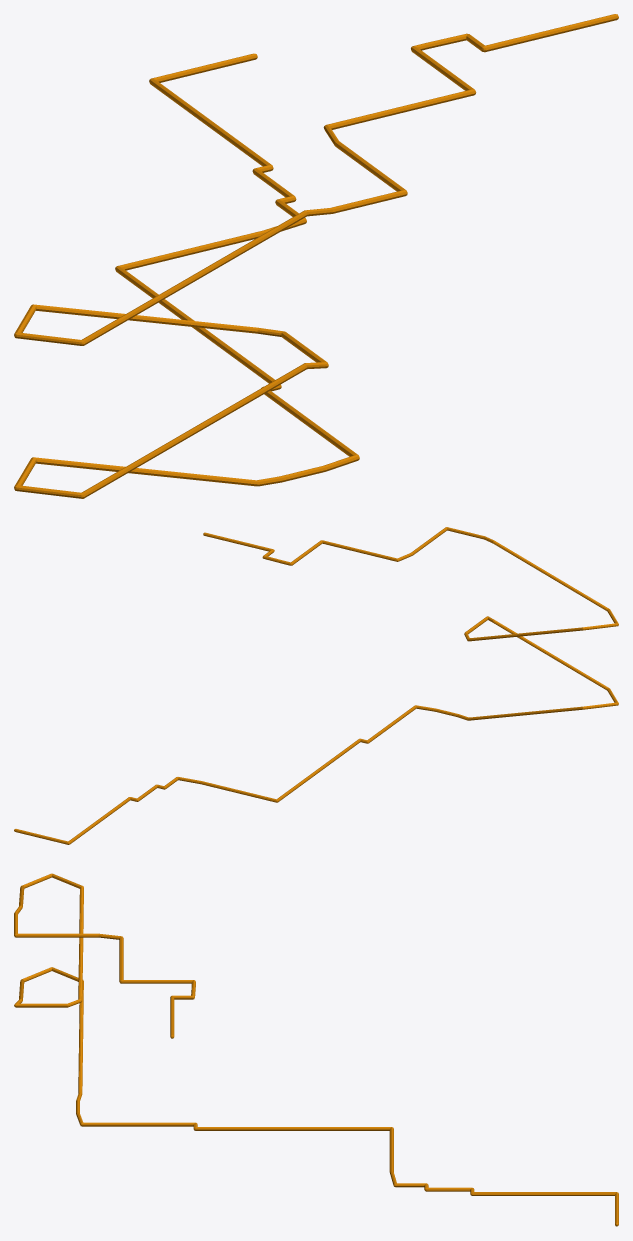
3 views of the same model, one above another, from view 1: azimuth 30°, elevation 25°; view 2: azimuth 150°, elevation 25°; view 3: azimuth 270°, elevation 25° (orthographic). The views are drawn at different scales.
Size of the model in its own units: 2412 by 1020 by 2929.
